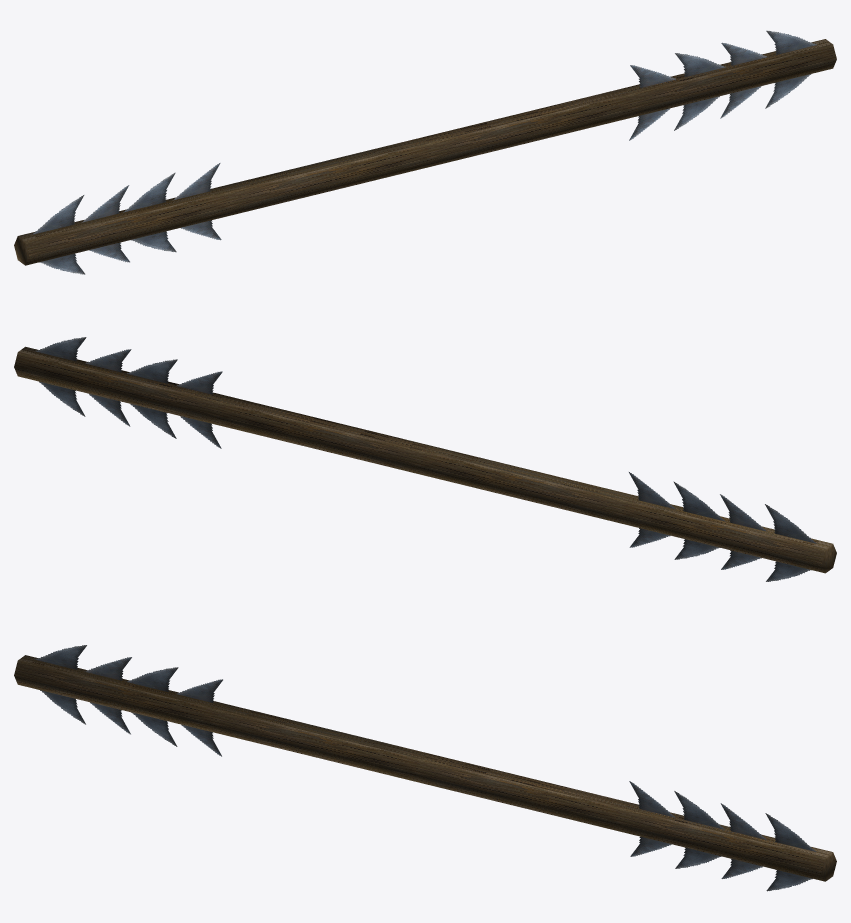
3 views of the same model, one above another, from view 1: azimuth 30°, elevation 25°; view 2: azimuth 150°, elevation 25°; view 3: azimuth 330°, elevation 25° (orthographic).
Visible parts, largest first — view 1: it111; view 2: it111; view 3: it111.
Part boxes in pixels (bbox=[...]): it111: bbox=[14, 30, 836, 274]; it111: bbox=[14, 337, 836, 581]; it111: bbox=[14, 645, 836, 891].
Bounding box in the file's own units: 6.38 × 0.7397 × 0.208.
2 materials, 2 textured.
